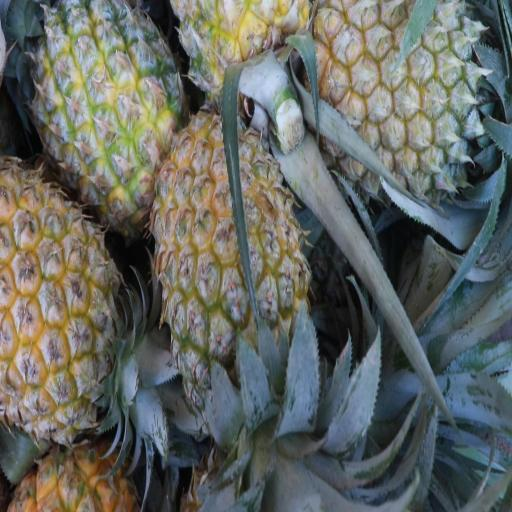------------------------------: (157, 113, 293, 400)
Pineapple - v8 v1: (0, 186, 125, 440), (34, 0, 178, 219)
